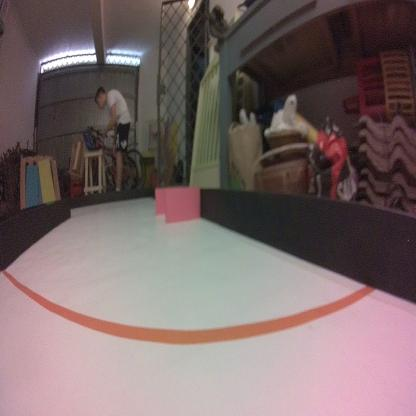magenta: (165, 188, 200, 224), (154, 184, 184, 215)
